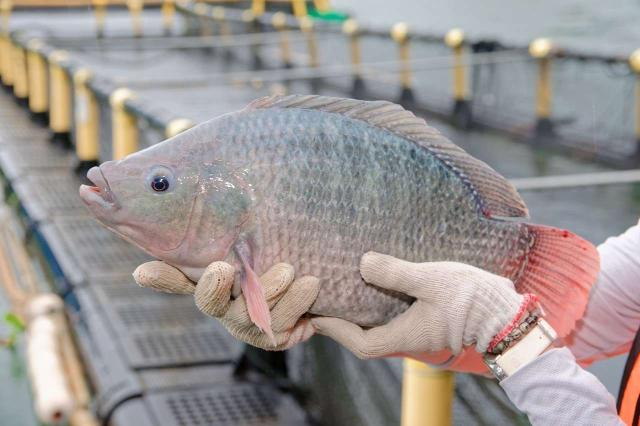Mulut: (58, 146, 122, 228)
Sirip Dada: (222, 234, 280, 350)
Sirip Ekor: (510, 206, 606, 358)
Sirip Punggung: (254, 78, 546, 230)
